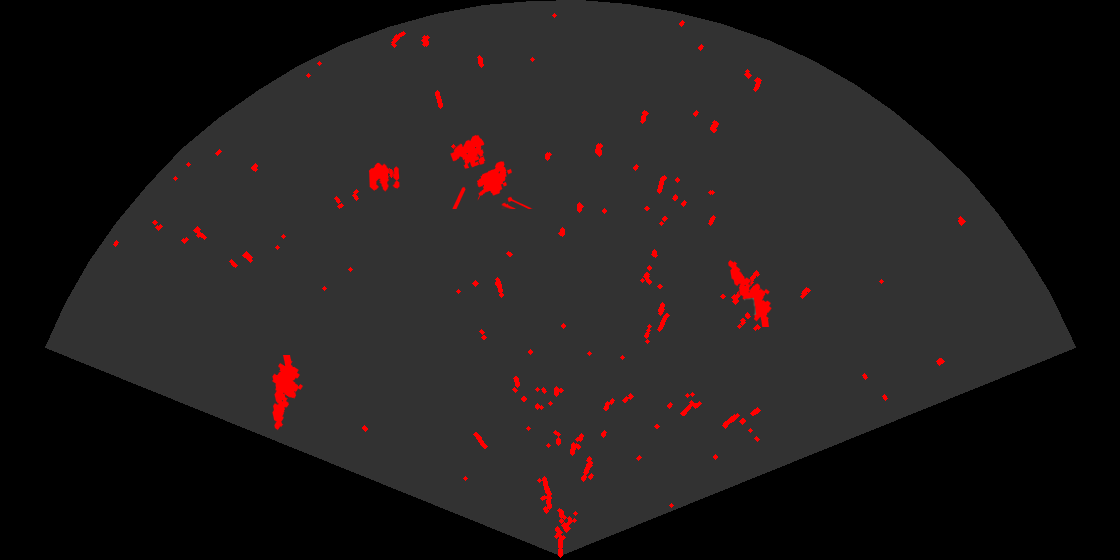ball: (367, 161, 401, 193)
cage: (449, 133, 533, 209)
frogman: (727, 258, 773, 327), (271, 355, 305, 431)
